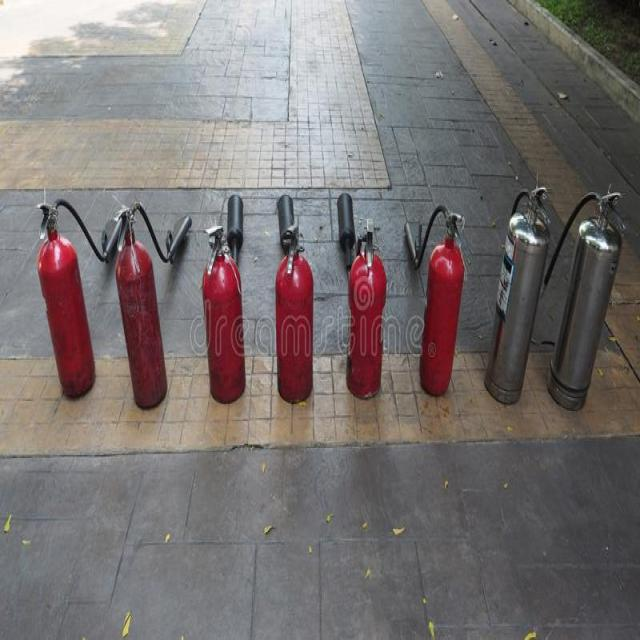fire_extinguisher: (529, 184, 627, 416), (32, 181, 123, 409), (112, 197, 194, 412), (481, 177, 554, 408), (402, 198, 466, 400), (334, 190, 388, 402), (201, 187, 244, 409), (272, 194, 315, 402)
